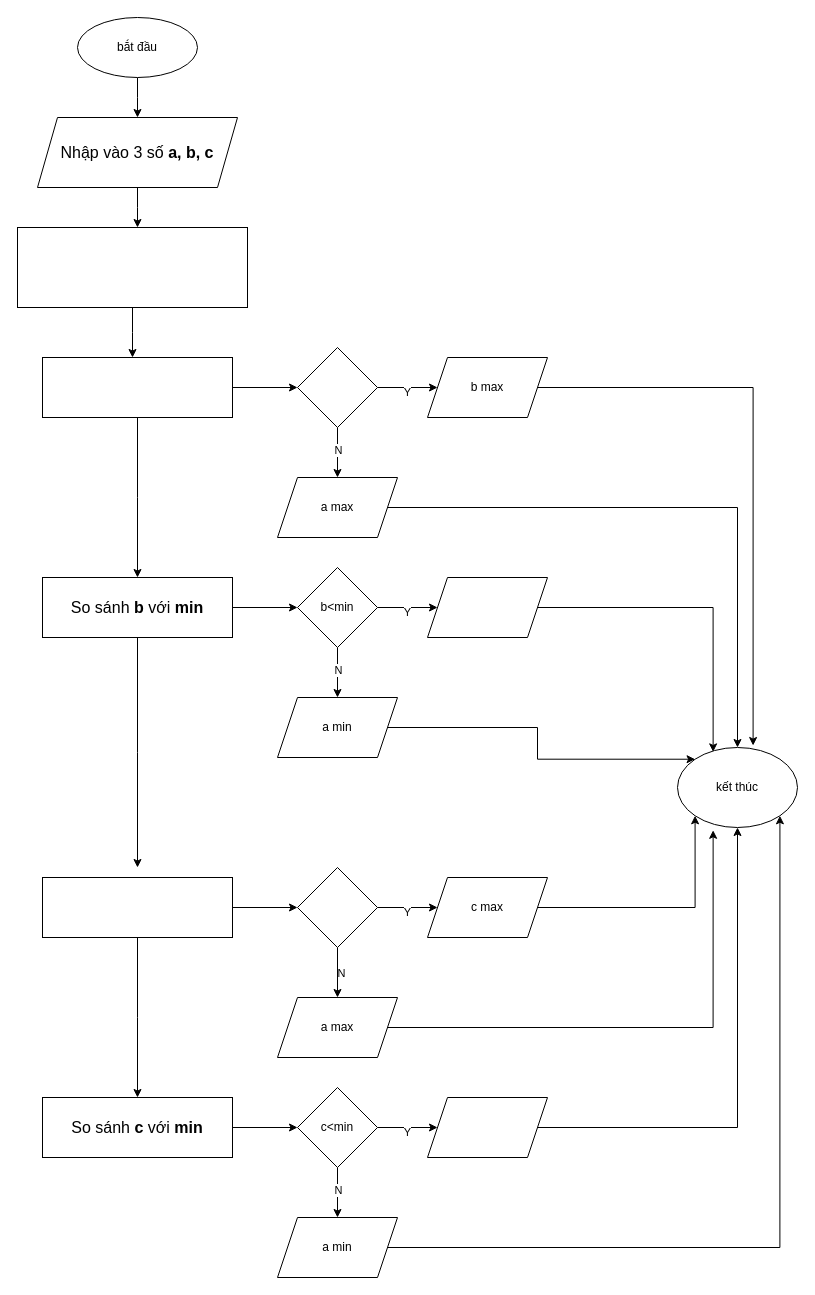
Image size: 815x1295. Some labels were removed from this diagram. The shapes that lost their labels are listed below. From the top down, each one's box as (x1, y1, x2, y2) in pixels, then its label:
(16, 226, 248, 308): Gán max = a , min = a
(42, 356, 232, 418): So sánh b với max
(296, 346, 378, 428): b>max
(426, 576, 548, 638): b min
(42, 876, 232, 938): So sánh c với max
(296, 866, 378, 948): c>max
(426, 1096, 548, 1158): c min
